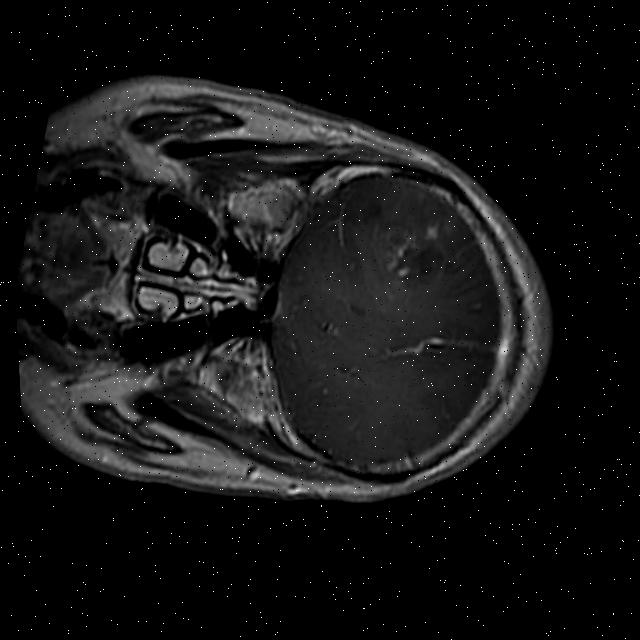Glioma: (374, 210, 453, 289)
